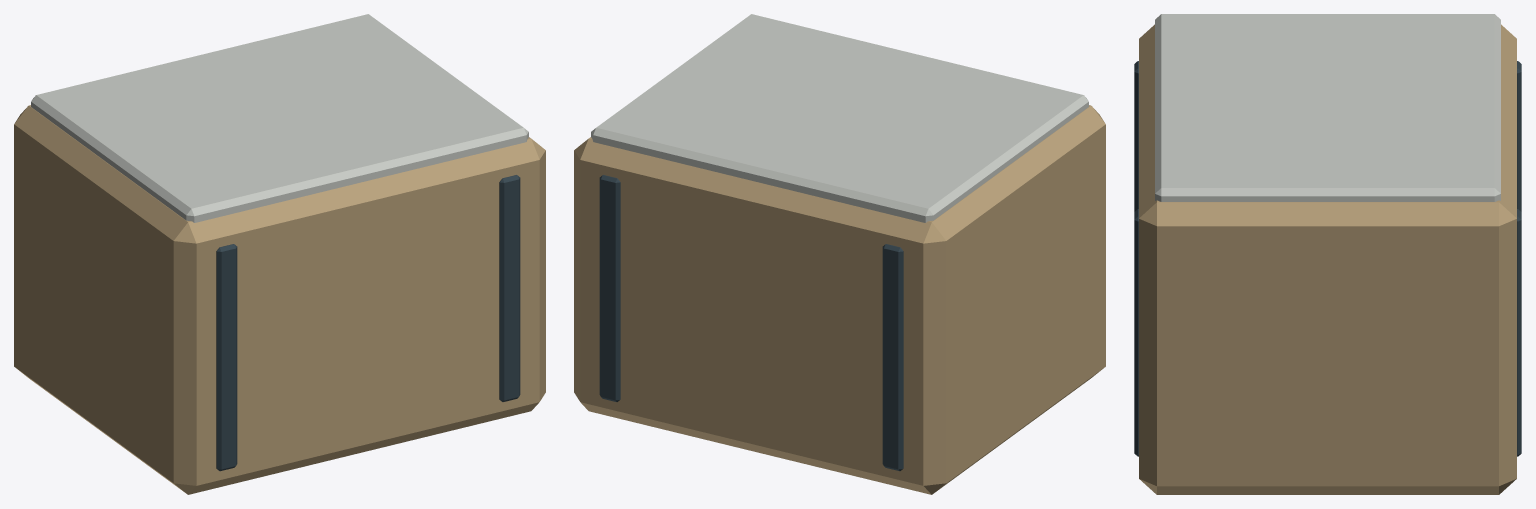
Rendered from phw_crate_l.glb.
The picture shows the model from 3 angles, left to right: view 1: azimuth 30°, elevation 25°; view 2: azimuth 150°, elevation 25°; view 3: azimuth 270°, elevation 25°; orthographic projection. The views are drawn at different scales.
Visible parts, largest first — view 1: body; view 2: body; view 3: body.
Part boxes in pixels (x1,y1,x2,y2): body: (14, 14, 545, 494); body: (574, 14, 1105, 494); body: (1134, 14, 1521, 494).
Size of the model in its own units: 0.64 by 0.4655 by 0.5376.
